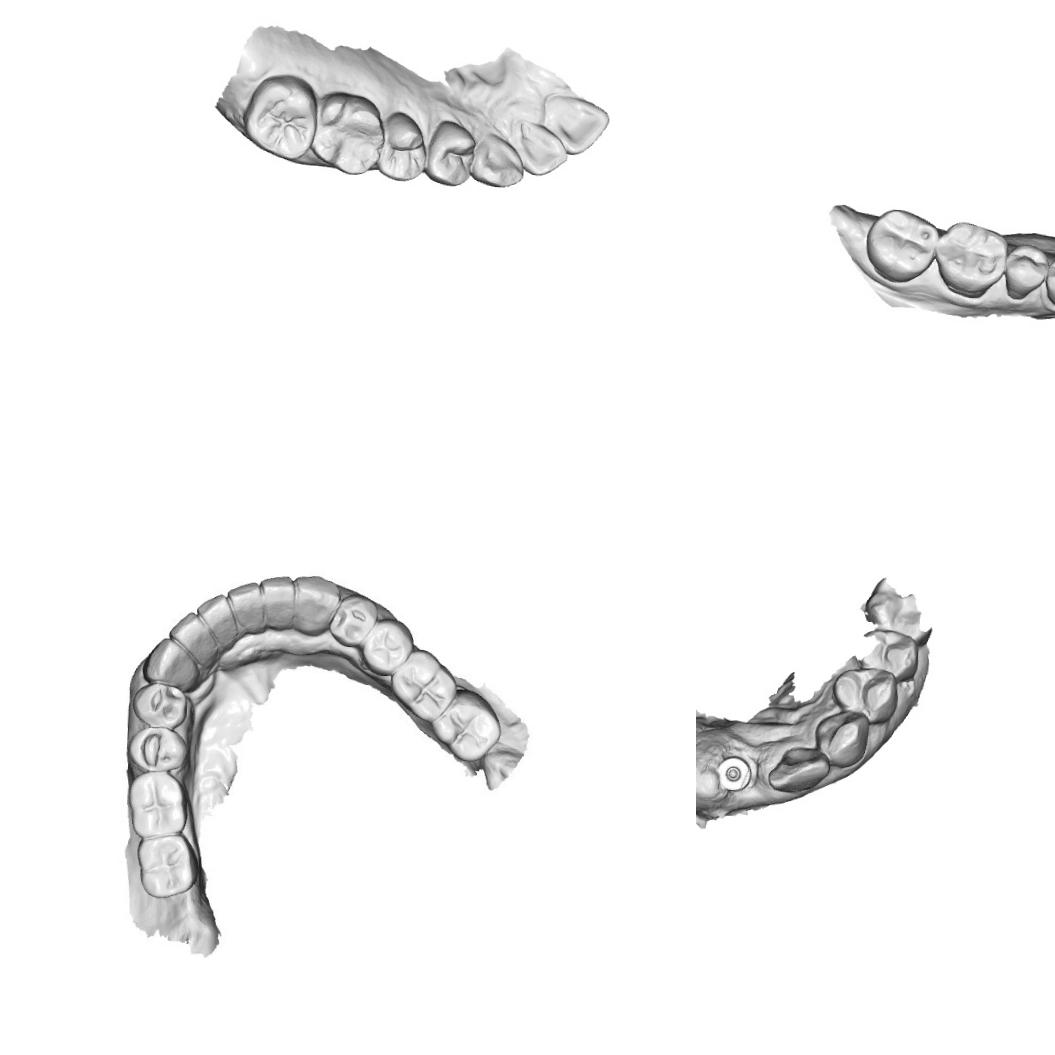canine: (812, 706, 872, 770), (467, 131, 526, 190), (142, 634, 202, 692), (290, 572, 342, 638)
implant: (712, 743, 754, 795)
incisor: (538, 92, 611, 158), (508, 115, 570, 178), (764, 743, 832, 796), (166, 609, 218, 667), (194, 590, 240, 649), (224, 578, 266, 640), (255, 572, 297, 632)
molar: (241, 72, 321, 160), (309, 87, 387, 176), (931, 219, 1009, 300), (862, 206, 940, 286), (427, 688, 504, 764), (386, 646, 458, 727), (856, 574, 937, 646), (134, 830, 200, 902), (125, 768, 190, 838)
premolar: (828, 664, 902, 730), (372, 109, 430, 184), (856, 623, 922, 682), (423, 118, 478, 187), (358, 614, 416, 678), (124, 724, 192, 774), (326, 589, 381, 650), (130, 679, 188, 730), (1002, 241, 1051, 300), (1042, 251, 1055, 308)
